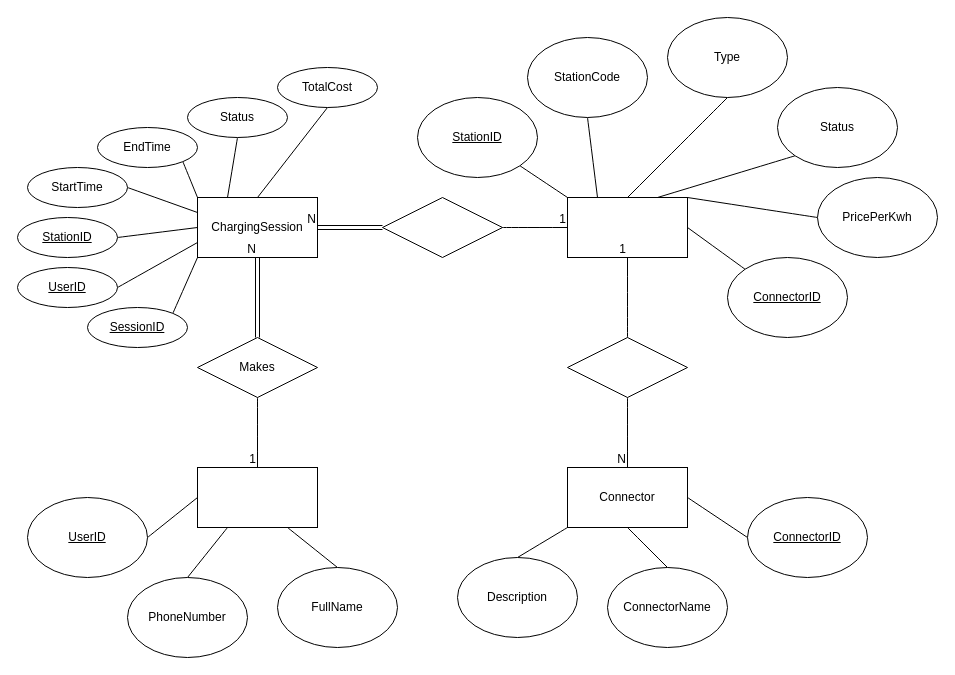
This 955x675 diagram has some shape labels left out. The box of each missing label's shape, as (x1, y1, x2, y2) in pixels:
Has: (566, 336, 688, 398)
Hosts: (382, 196, 502, 258)
Station: (566, 196, 688, 258)
User: (196, 466, 318, 528)
